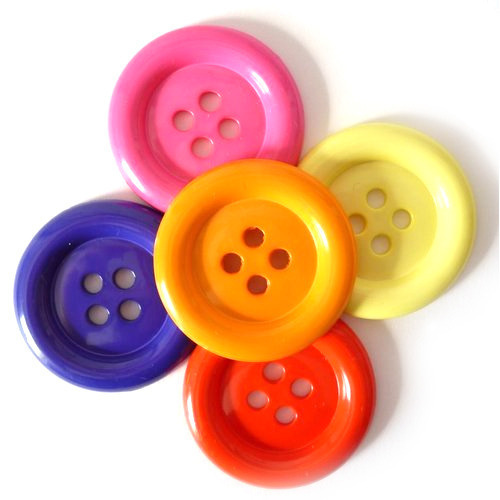Bouton: (151, 160, 359, 363)
